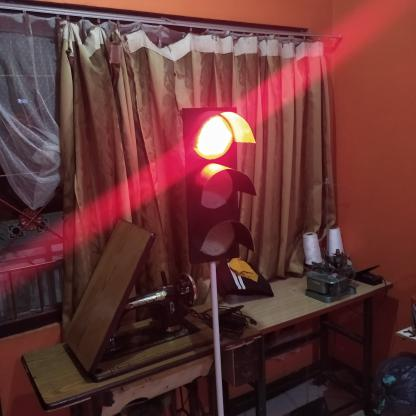red: (183, 110, 254, 262)
